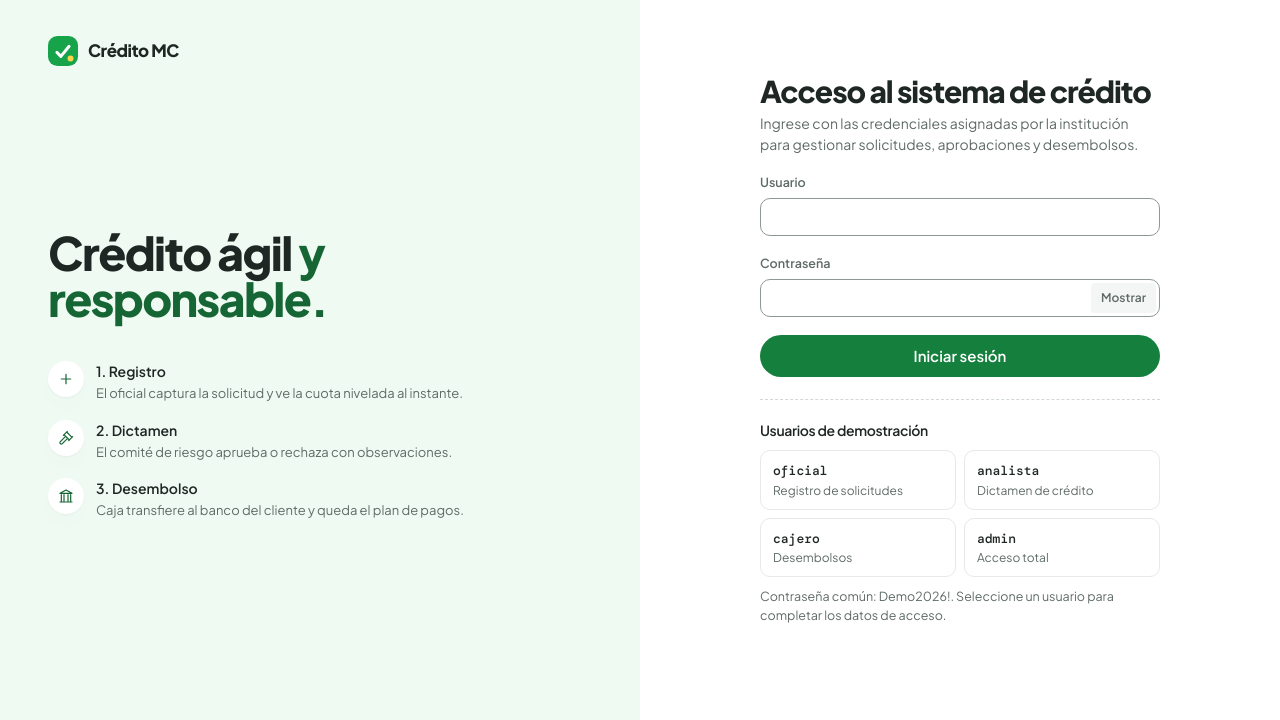
Test: autenticación › muestra el mensaje de la API ante credenciales incorrectas
Type "x" into the field labelled "Usuario" at [960, 217], box [760, 198, 1160, 236]
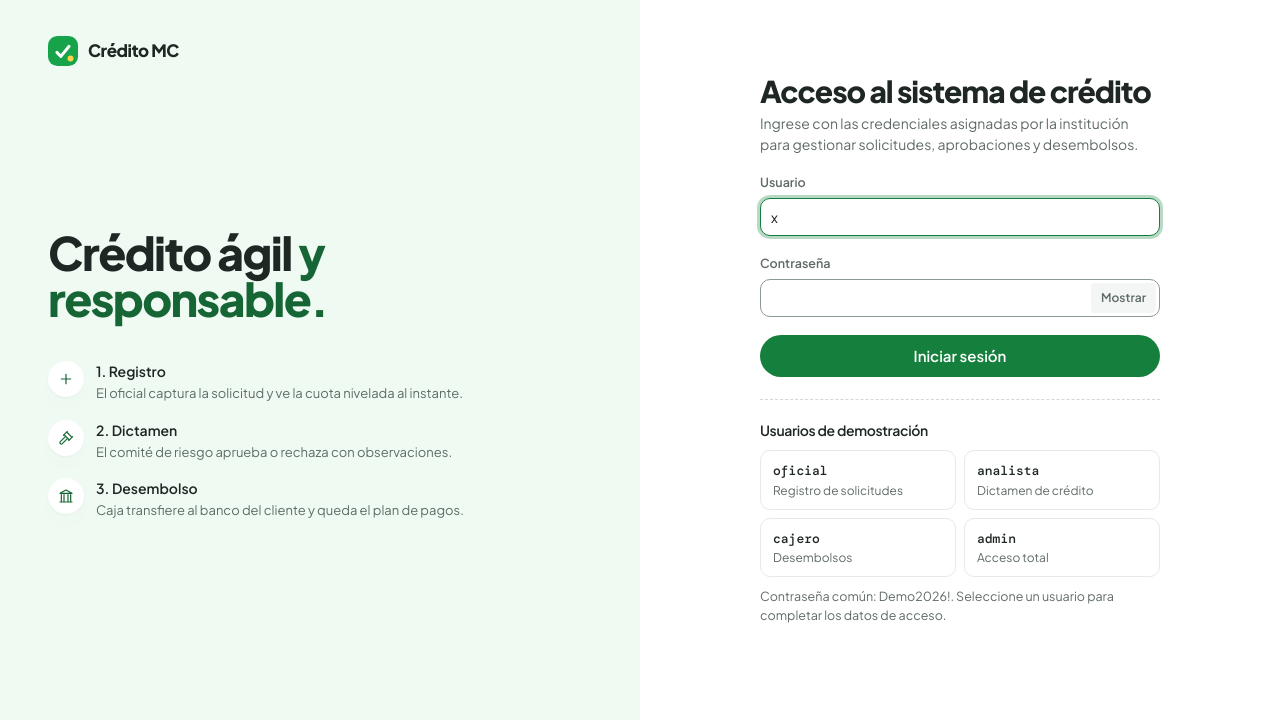
Type "y" into the password field labelled "Contraseña" at [960, 298], box [760, 279, 1160, 317]
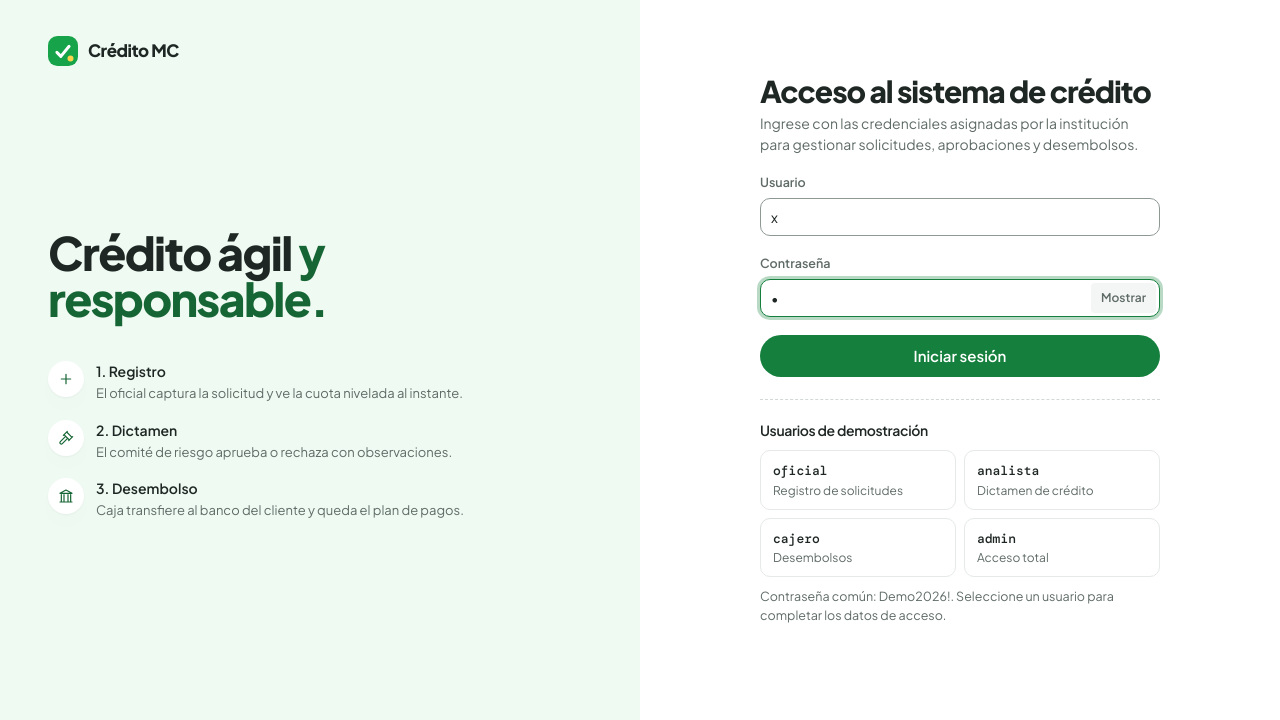
Click the button "Iniciar sesión" at [960, 356], box [760, 335, 1160, 377]
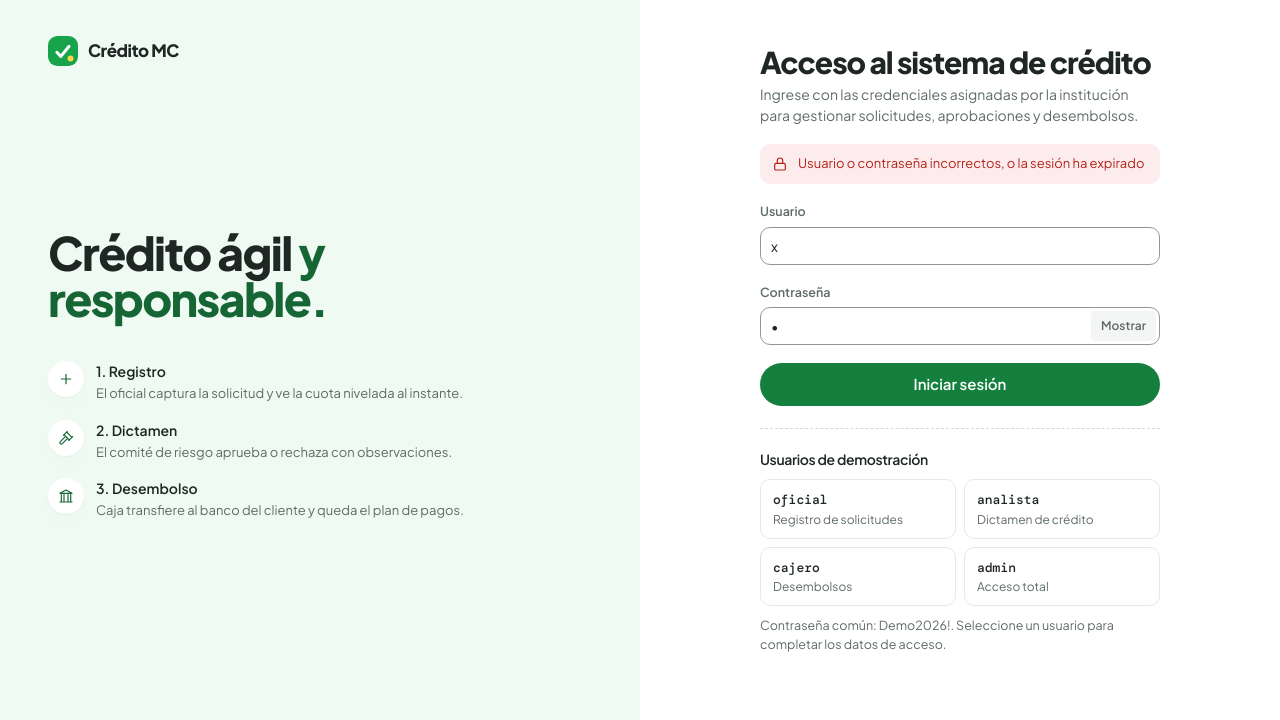
Now the message reads "Usuario o contraseña incorrectos, o la sesión ha expirado", box [798, 155, 1144, 171]
